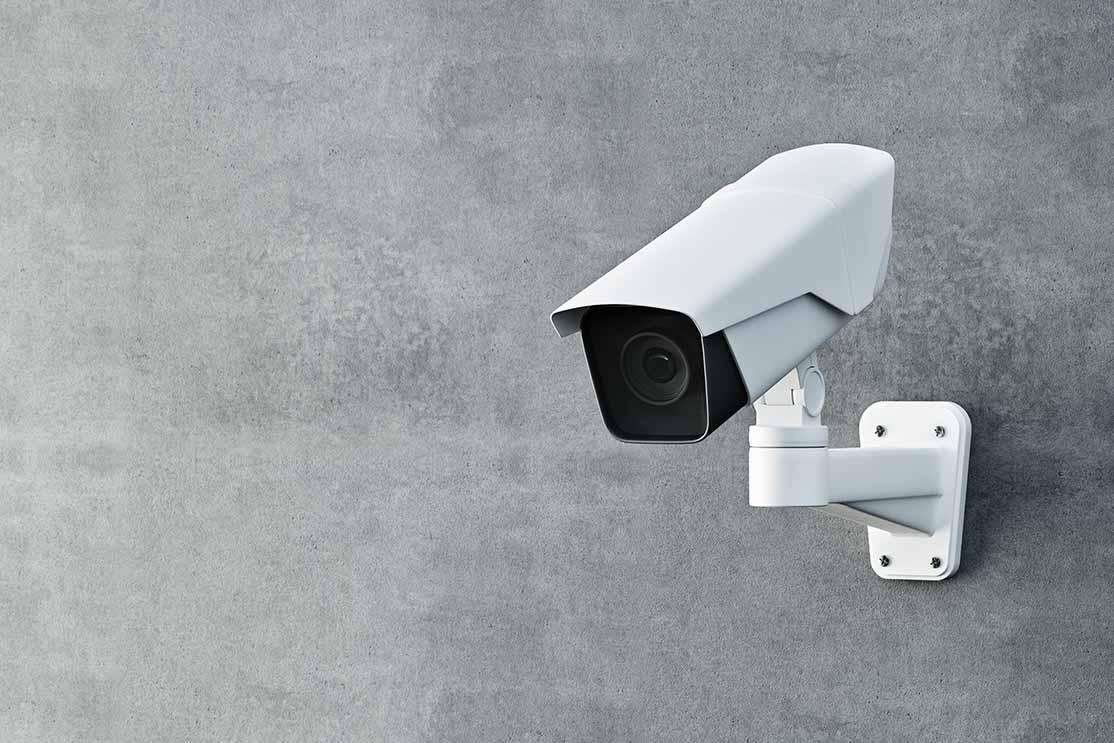camera: (454, 78, 960, 522)
